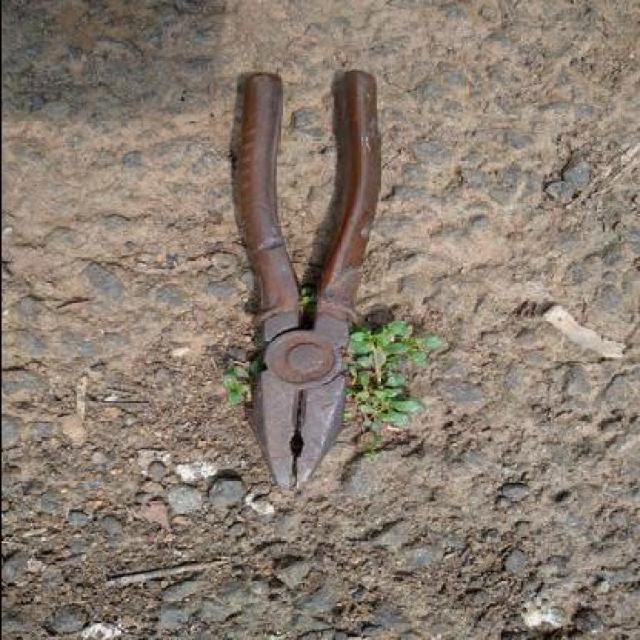pliers: (232, 70, 381, 496)
